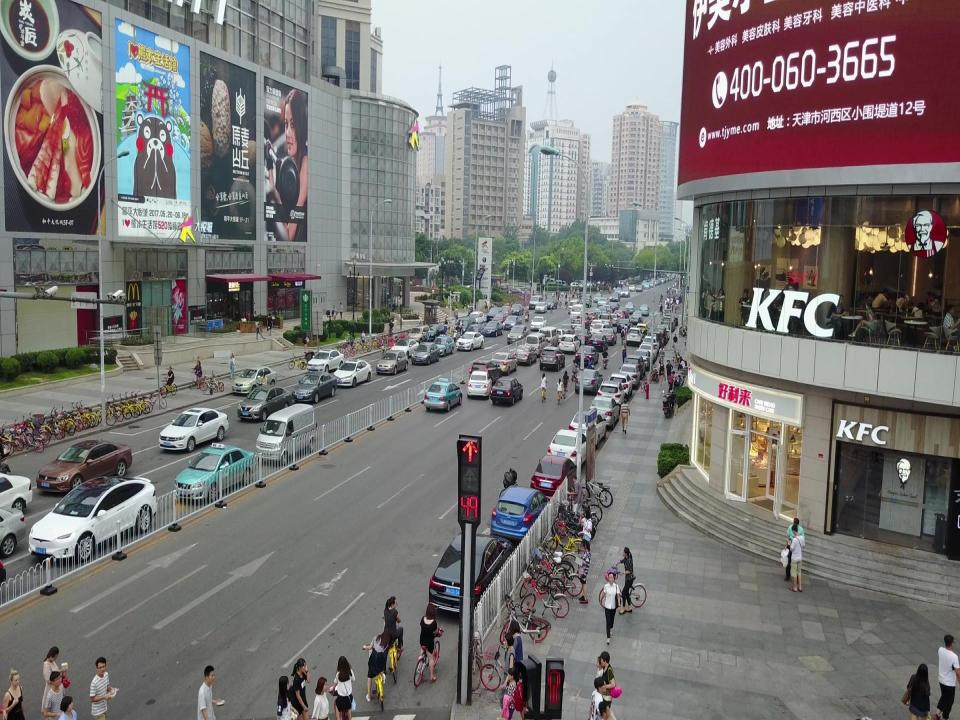car: (28, 475, 156, 563), (428, 531, 514, 618), (36, 438, 132, 495), (174, 442, 256, 504), (490, 484, 552, 545), (158, 408, 229, 454), (529, 455, 579, 502), (237, 385, 292, 422), (546, 428, 592, 468), (0, 472, 32, 522), (292, 371, 338, 404), (568, 410, 606, 449), (423, 378, 463, 413), (232, 365, 278, 394), (0, 507, 26, 557), (587, 395, 619, 429), (332, 360, 372, 387), (596, 379, 626, 411), (490, 377, 523, 405), (306, 349, 344, 373), (469, 359, 502, 385), (375, 350, 408, 376), (606, 371, 633, 402), (574, 368, 604, 395), (410, 342, 440, 365), (466, 371, 492, 397), (388, 339, 420, 360), (539, 346, 565, 371), (490, 352, 518, 375), (455, 331, 485, 351), (618, 363, 640, 389), (624, 354, 646, 380), (406, 324, 432, 345), (432, 334, 454, 358), (575, 345, 599, 366), (513, 345, 537, 365), (637, 342, 658, 364), (559, 333, 581, 354), (507, 325, 529, 345), (633, 348, 652, 370), (645, 330, 665, 350), (455, 317, 477, 335), (588, 333, 608, 352), (483, 320, 504, 337), (642, 335, 660, 354), (626, 326, 643, 346), (573, 328, 591, 346), (502, 315, 522, 331), (590, 323, 612, 337), (653, 326, 668, 346), (634, 322, 650, 340), (574, 314, 592, 330), (659, 315, 675, 332), (600, 329, 617, 345), (549, 329, 565, 345), (487, 307, 503, 323), (657, 323, 671, 341), (568, 319, 586, 333), (617, 318, 633, 333), (589, 320, 604, 336), (559, 323, 575, 338), (584, 311, 600, 326), (530, 316, 546, 331), (594, 306, 610, 320), (468, 311, 484, 325), (665, 312, 679, 327), (612, 309, 626, 323), (607, 313, 621, 326), (572, 280, 592, 289), (631, 311, 644, 324), (617, 306, 630, 319), (624, 301, 636, 315), (544, 297, 558, 309), (510, 304, 524, 316), (601, 304, 613, 317), (607, 302, 620, 314), (500, 306, 512, 319), (639, 303, 650, 317), (582, 293, 592, 308), (597, 298, 609, 310), (569, 281, 584, 290), (535, 302, 547, 313), (609, 293, 621, 302), (593, 293, 603, 303), (636, 284, 644, 292), (628, 284, 635, 292)
van: (255, 403, 317, 465), (524, 333, 548, 357), (537, 326, 559, 349), (569, 303, 585, 320), (597, 313, 613, 328), (528, 295, 544, 310), (568, 300, 582, 314), (553, 280, 567, 289), (544, 277, 556, 287)
